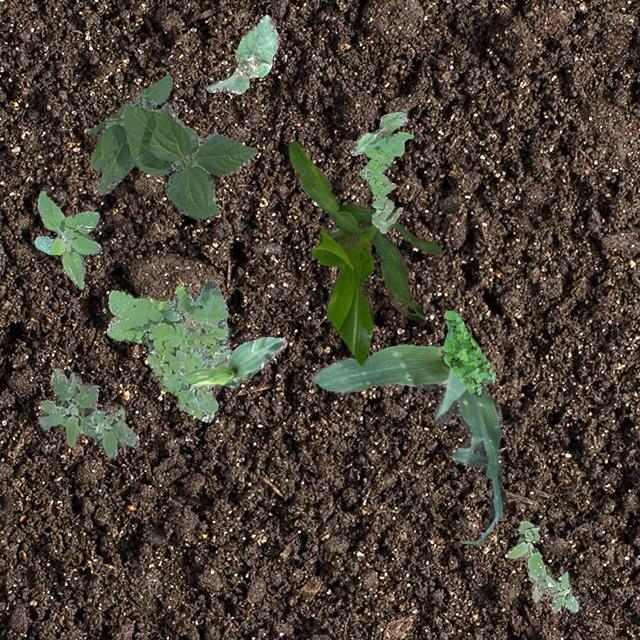crop: (312, 344, 506, 546), (288, 140, 440, 364), (88, 74, 255, 220), (205, 13, 278, 92), (180, 336, 286, 386), (349, 110, 406, 154)
weed: (105, 280, 238, 420), (38, 367, 138, 458), (507, 520, 578, 612), (34, 190, 100, 288), (358, 130, 412, 232), (440, 310, 494, 394)
